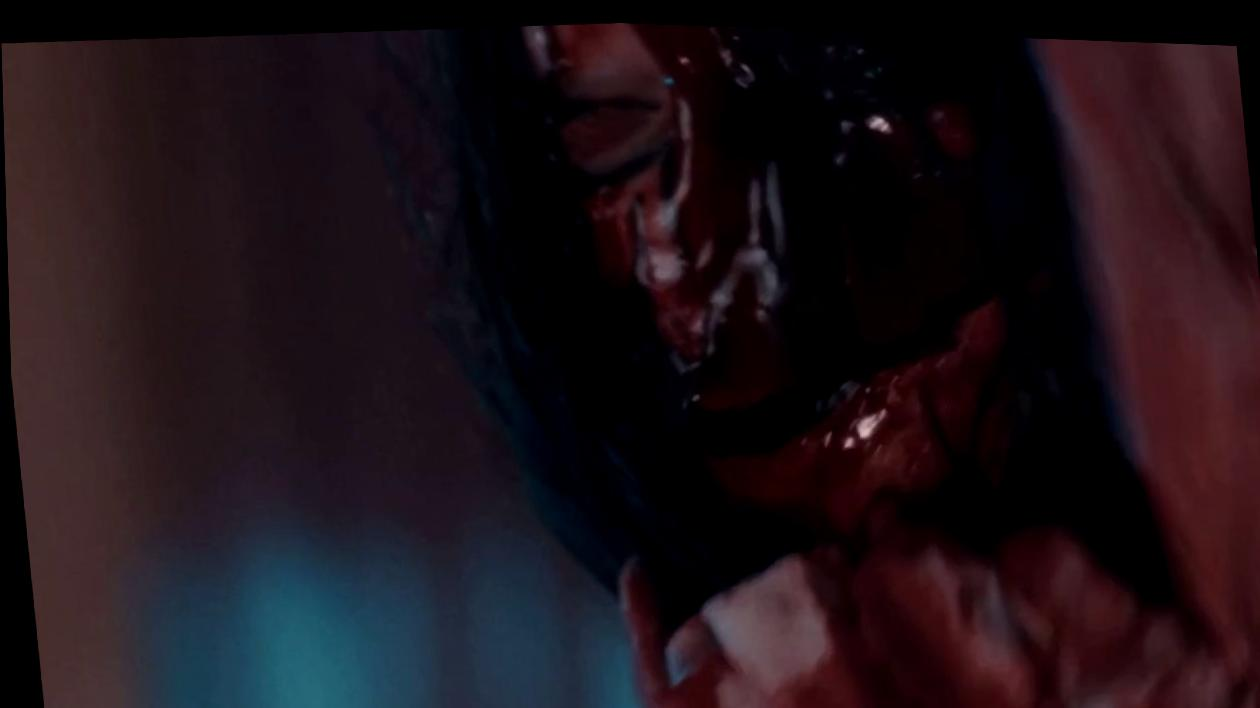Fire: (528, 18, 1260, 708)
